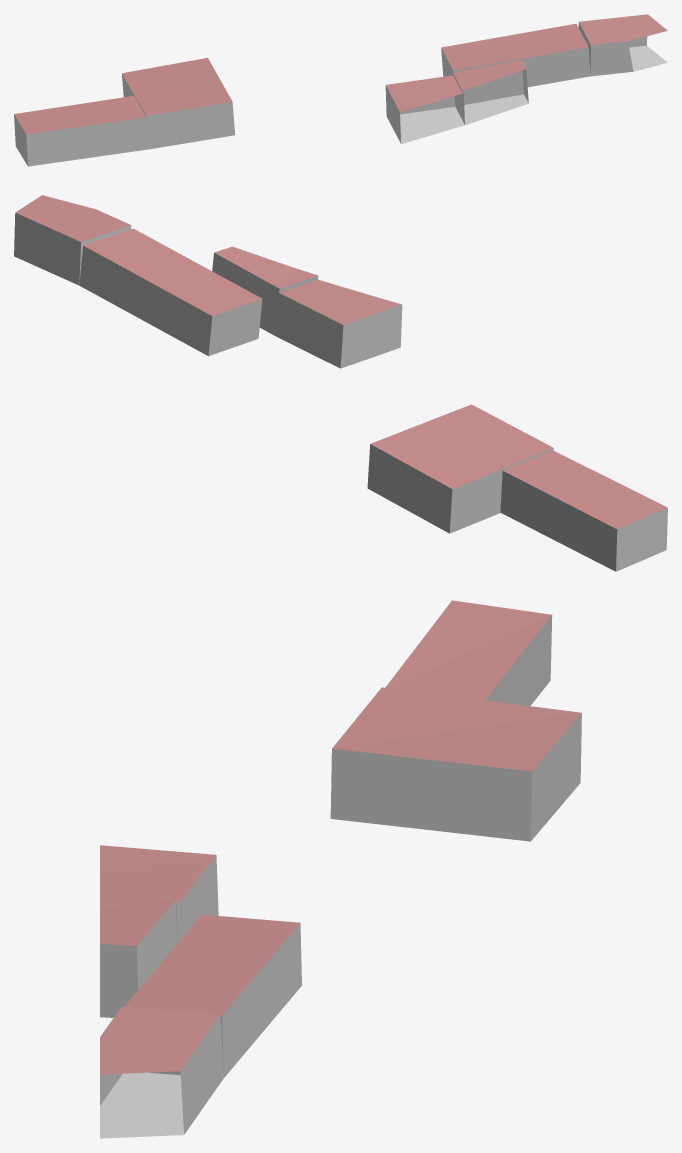
3 renders of one model, top to bottom at view 1: azimuth 30°, elevation 25°; view 2: azimuth 150°, elevation 25°; view 3: azimuth 270°, elevation 25°, orthographic. The views are drawn at different scales.
Visible parts, largest first — view 1: mesh_CityEngineMaterial.015; view 2: mesh_CityEngineMaterial.015; view 3: mesh_CityEngineMaterial.015.
Part boxes in pixels (left/top/right/bottom): mesh_CityEngineMaterial.015: left=14, top=14, right=667, bottom=166; mesh_CityEngineMaterial.015: left=14, top=195, right=667, bottom=571; mesh_CityEngineMaterial.015: left=100, top=600, right=581, bottom=1138.
Bounding box in the file's own units: 180 × 21.15 × 67.97.
